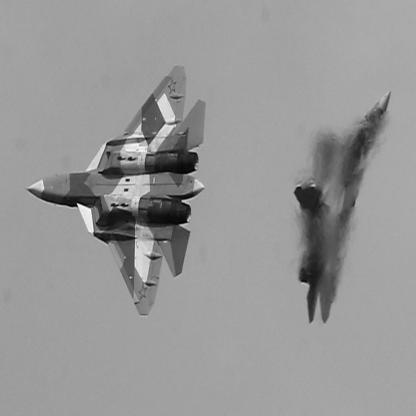Su57: (27, 65, 207, 317), (294, 91, 393, 326)
